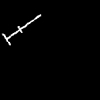double_crochet: (3, 15, 40, 44)
